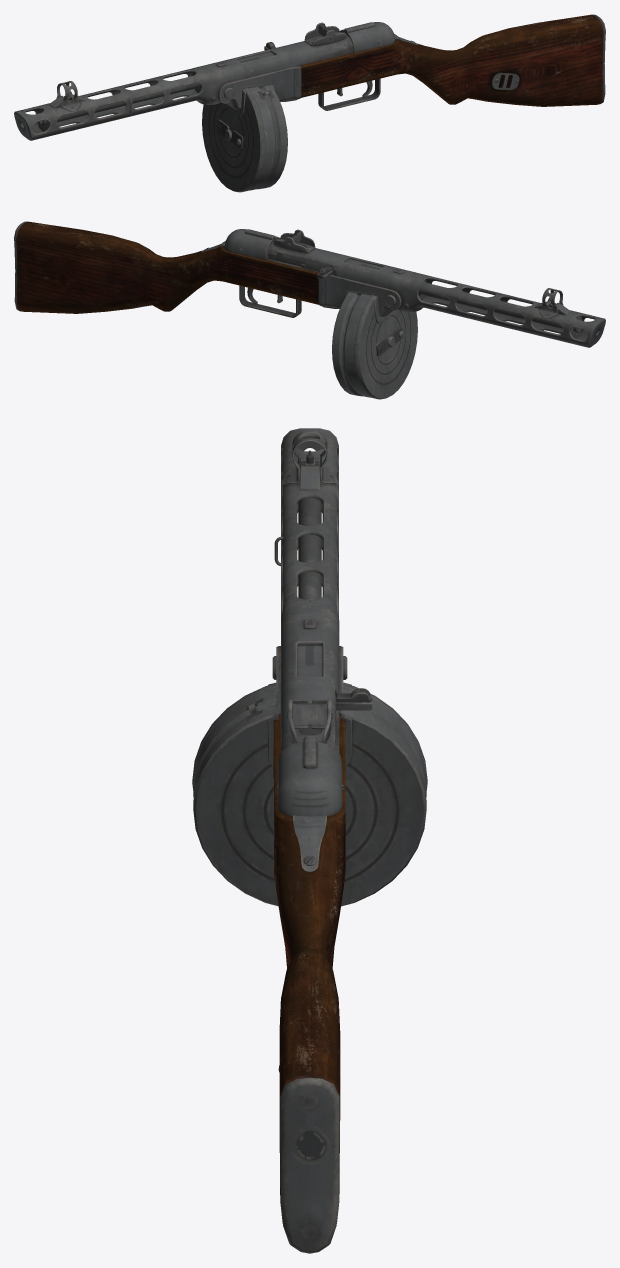
The model's file is ppsh-41.glb.
The picture shows the model from 3 angles, top to bottom: view 1: azimuth 30°, elevation 25°; view 2: azimuth 150°, elevation 25°; view 3: azimuth 270°, elevation 25°; orthographic projection. The views are drawn at different scales.
Parts seen in each view (by area): view 1: ppsh-41_3_low.006, Circle.004; view 2: ppsh-41_3_low.006, Circle.004, ppsh-41_3_low.011; view 3: ppsh-41_3_low.006, Circle.004.
Boxes of the visible parts, <box> form: ppsh-41_3_low.006: <box>14,14,605,140</box>; Circle.004: <box>202,83,287,192</box>; ppsh-41_3_low.006: <box>14,221,605,347</box>; Circle.004: <box>332,290,417,399</box>; ppsh-41_3_low.011: <box>301,262,336,279</box>; ppsh-41_3_low.006: <box>272,428,347,1253</box>; Circle.004: <box>192,682,427,906</box>.
Bounding box in the file's own units: 564 × 139 × 99.06.
Materials: 1 (1 with a texture image).
